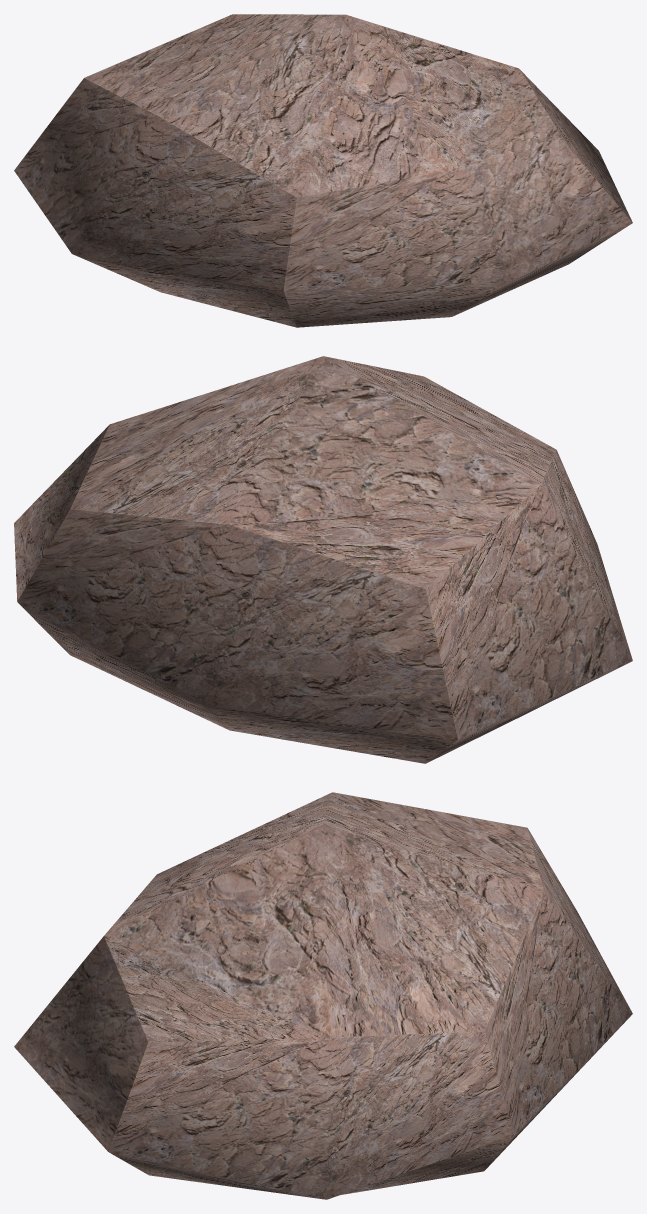
File: Stone_01.FBX
3 renders of one model, top to bottom at view 1: azimuth 30°, elevation 25°; view 2: azimuth 150°, elevation 25°; view 3: azimuth 270°, elevation 25°, orthographic. The views are drawn at different scales.
Visible parts, largest first — view 1: Box001; view 2: Box001; view 3: Box001.
Part boxes in pixels (bbox=[...]): Box001: bbox=[14, 14, 632, 327]; Box001: bbox=[14, 356, 632, 763]; Box001: bbox=[14, 792, 632, 1199].
Size of the model in its own units: 46.24 by 21.51 by 41.32.
